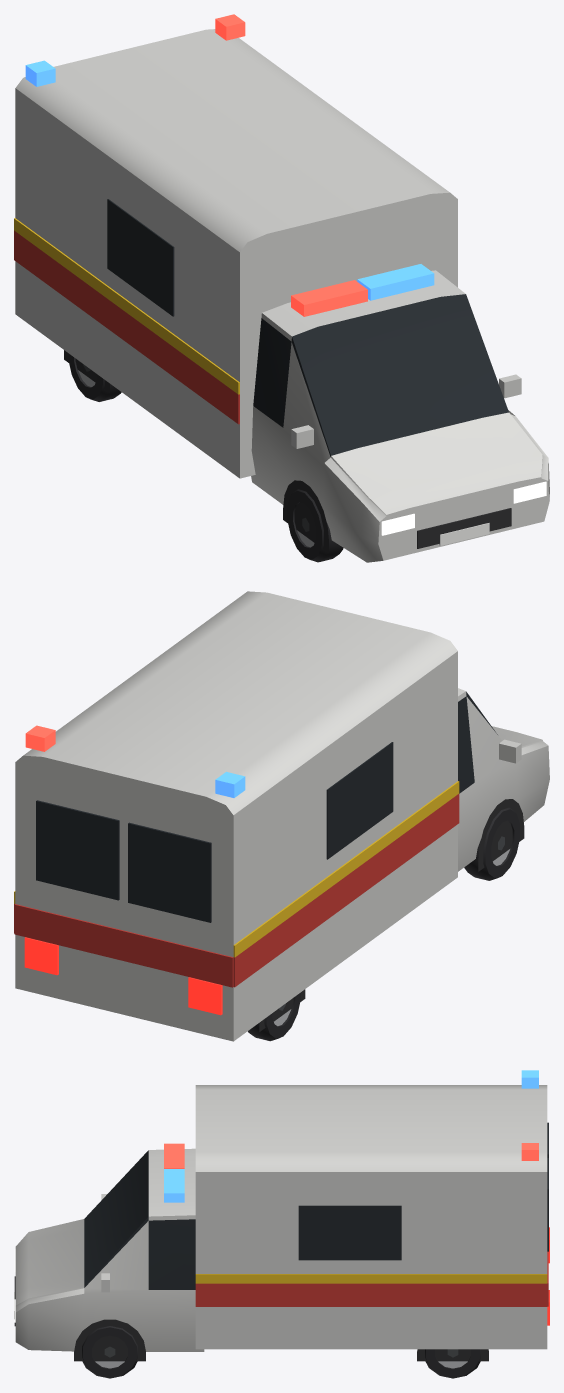
File: ambulance.glb
3 renders of one model, top to bottom at view 1: azimuth 30°, elevation 25°; view 2: azimuth 150°, elevation 25°; view 3: azimuth 270°, elevation 25°, orthographic. The views are drawn at different scales.
Visible parts, largest first — view 1: ambulance, Siren_0, Siren_1, Siren_2, Siren_3; view 2: ambulance, Siren_2, Siren_3; view 3: ambulance, Siren_1, Siren_0.
Boxes of the visible parts, x1,y1,x2,y2 form: ambulance: (14, 29, 549, 562); Siren_0: (291, 280, 367, 316); Siren_1: (357, 264, 434, 300); Siren_2: (25, 60, 55, 86); Siren_3: (215, 14, 245, 40); ambulance: (14, 591, 549, 1041); Siren_2: (215, 771, 245, 797); Siren_3: (25, 725, 55, 751); ambulance: (14, 1085, 549, 1378); Siren_1: (164, 1169, 184, 1202); Siren_0: (164, 1143, 184, 1168).
Bounding box in the file's own units: 0.1422 × 0.1794 × 0.375.
